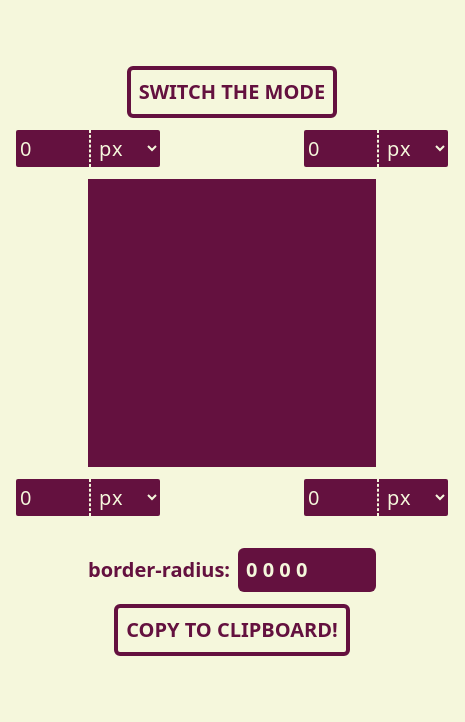
Test: App in normal mode › should keep the rounding after switching to advanced mode
The width and height of the screenshot is (465, 722).
In the number field named "top-left corner": (53, 148) [16,130,90,167], type "31"
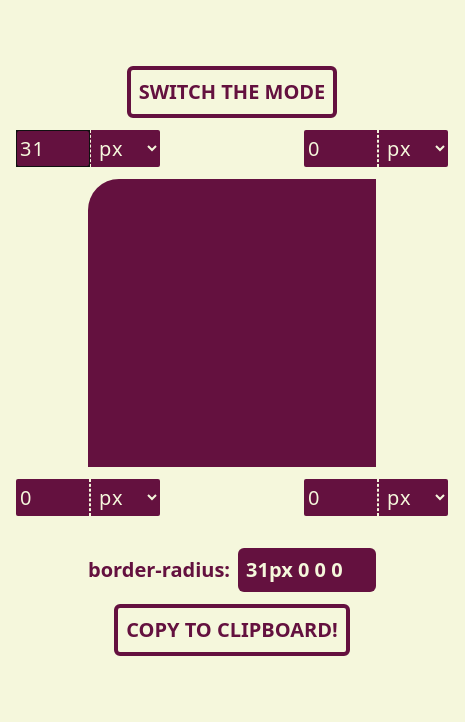
In the number field named "top-right corner": (341, 148) [304,130,378,167], type "52"
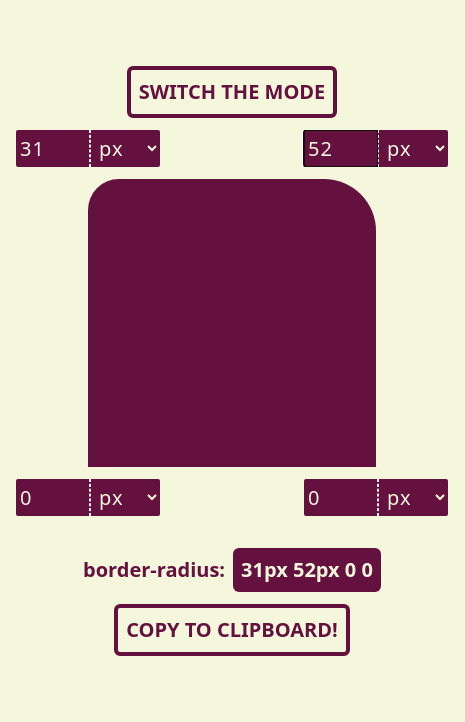
In the number field named "bottom-right corner": (341, 498) [304,479,378,516], type "89"
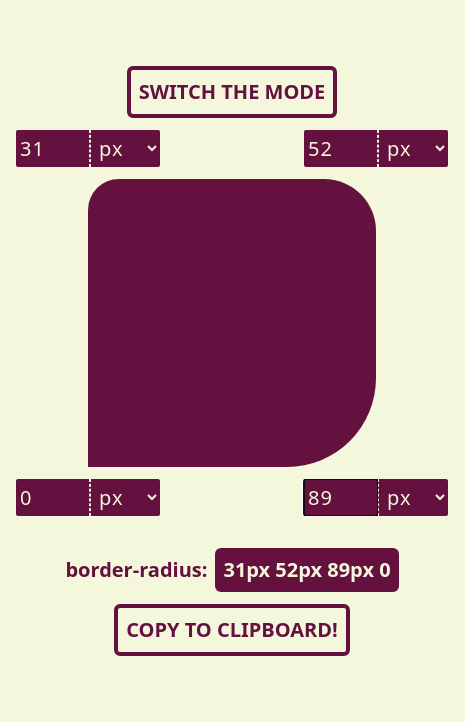
In the number field named "bottom-left corner": (53, 498) [16,479,90,516], type "90"
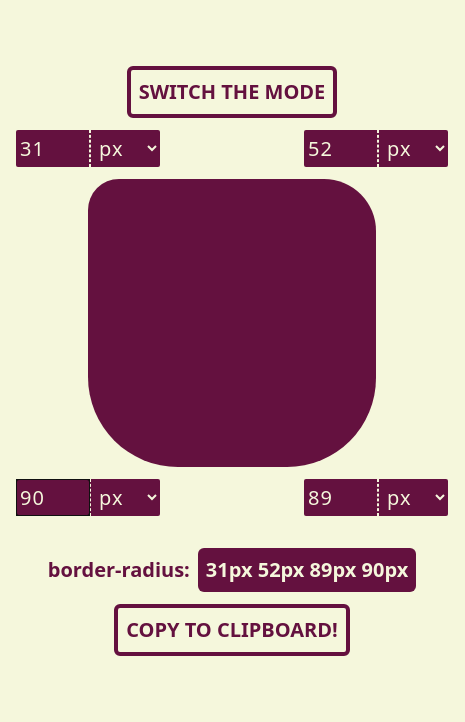
Click the switch labelled "Switch the mode": (232, 92) [127,66,337,118]
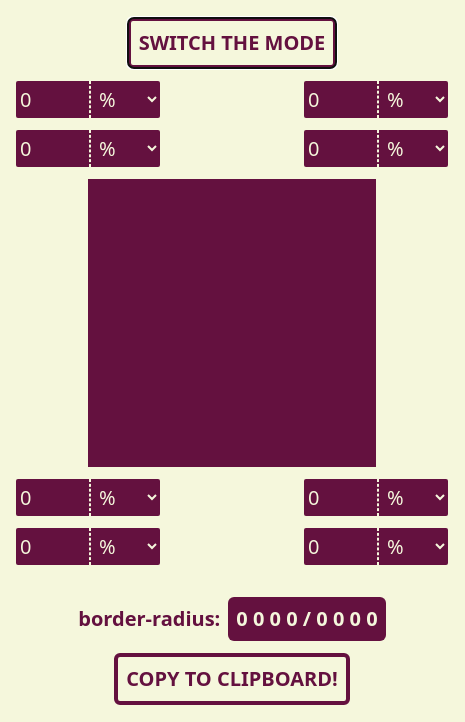
Click the switch labelled "Switch the mode": (232, 43) [127,17,337,69]
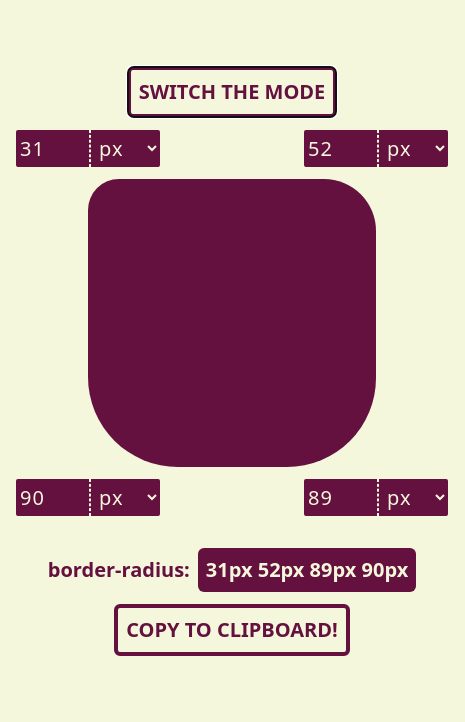
Expected: the text "31px 52px 89px 90px" is shown, [198,548,416,592]
